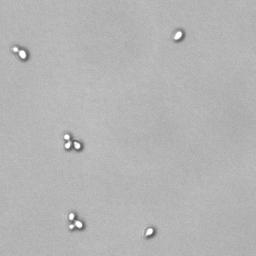budding: (60, 131, 84, 154), (65, 210, 87, 233), (7, 43, 31, 62)
individual: (169, 26, 188, 46), (141, 224, 157, 241)
